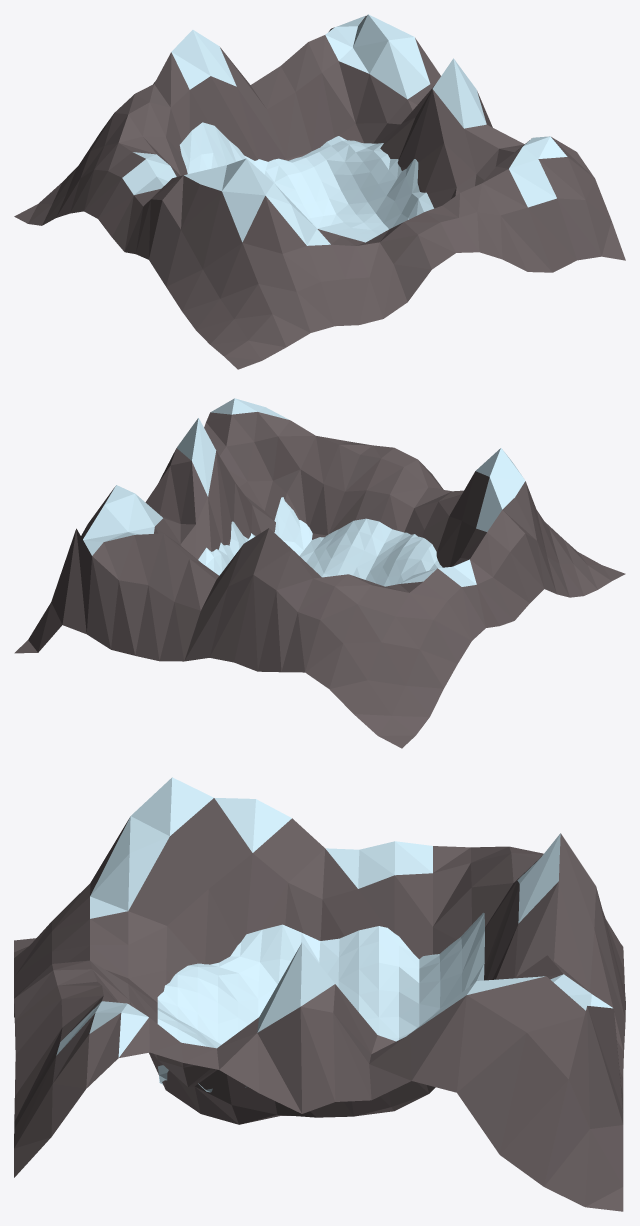
The model's file is Terrain.fbx.
The picture shows the model from 3 angles, top to bottom: view 1: azimuth 30°, elevation 25°; view 2: azimuth 150°, elevation 25°; view 3: azimuth 270°, elevation 25°; orthographic projection. The views are drawn at different scales.
Parts seen in each view (by area): view 1: Plane; view 2: Plane; view 3: Plane.
Part boxes in pixels (<box>): Plane: <box>14,14,625,369</box>; Plane: <box>14,398,625,748</box>; Plane: <box>14,777,625,1211</box>.
Size of the model in its own units: 35769 by 14529 by 35586.
